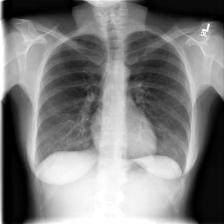normal: (32, 25, 196, 177)
